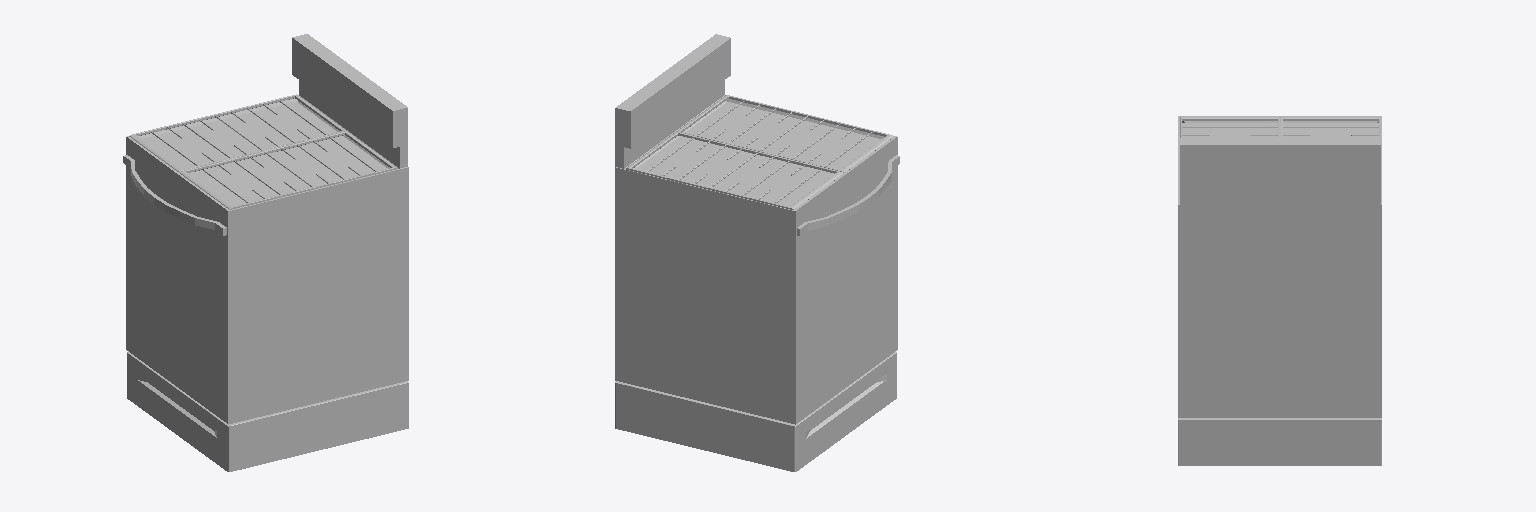
Rendered from Stove.obj.
3 renders of one model, left to right at view 1: azimuth 30°, elevation 25°; view 2: azimuth 150°, elevation 25°; view 3: azimuth 270°, elevation 25°, orthographic.
Parts seen in each view (by area): view 1: Stove; view 2: Stove; view 3: Stove.
Boxes of the visible parts, <box> form: Stove: <box>123,34,408,471</box>; Stove: <box>615,34,899,471</box>; Stove: <box>1178,116,1381,465</box>.
Size of the model in its own units: 28.88 by 43.34 by 25.